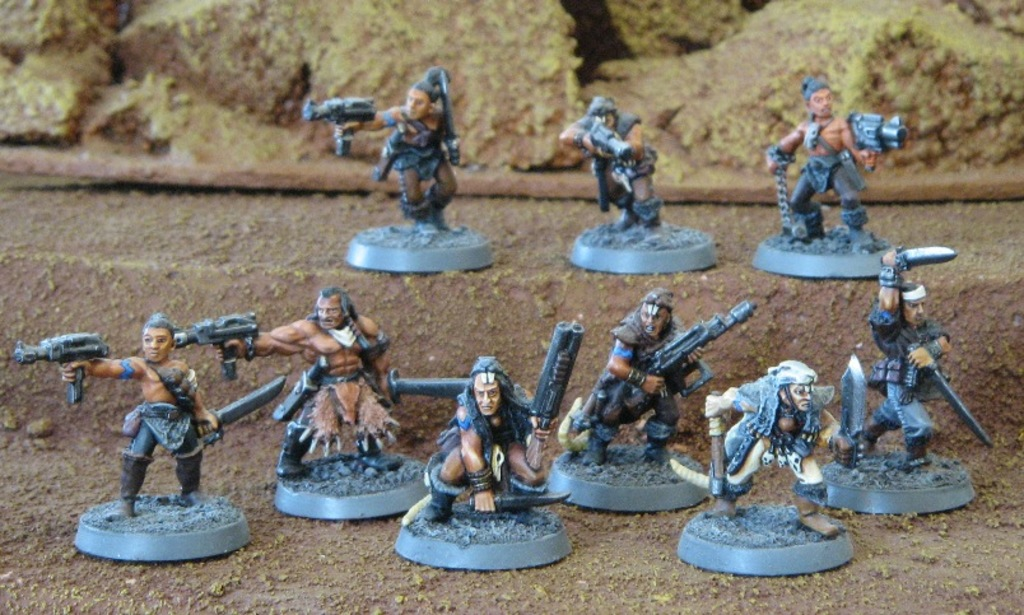Person: (61, 65, 950, 535)
